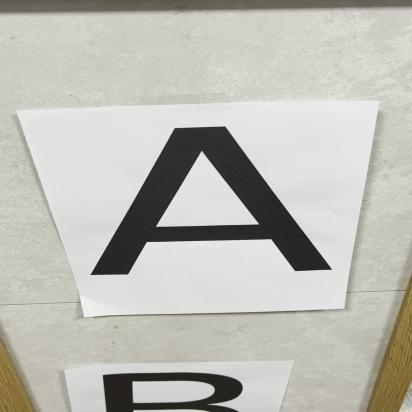seat: (70, 113, 344, 296)
